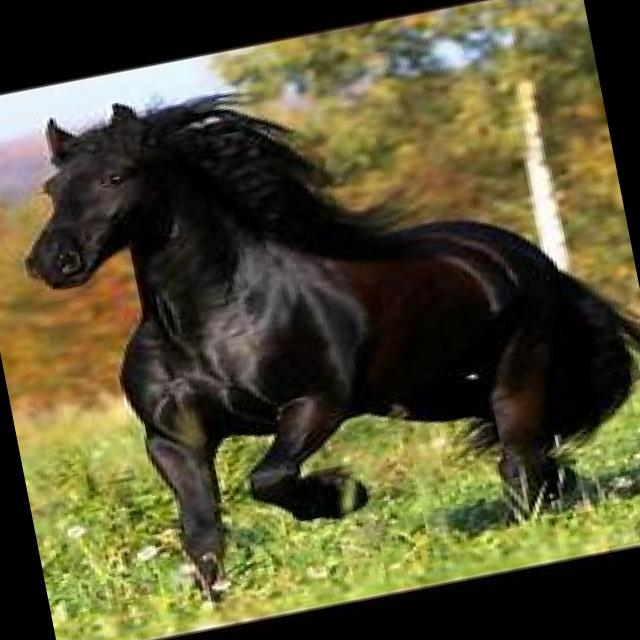animal: (0, 10, 640, 629)
